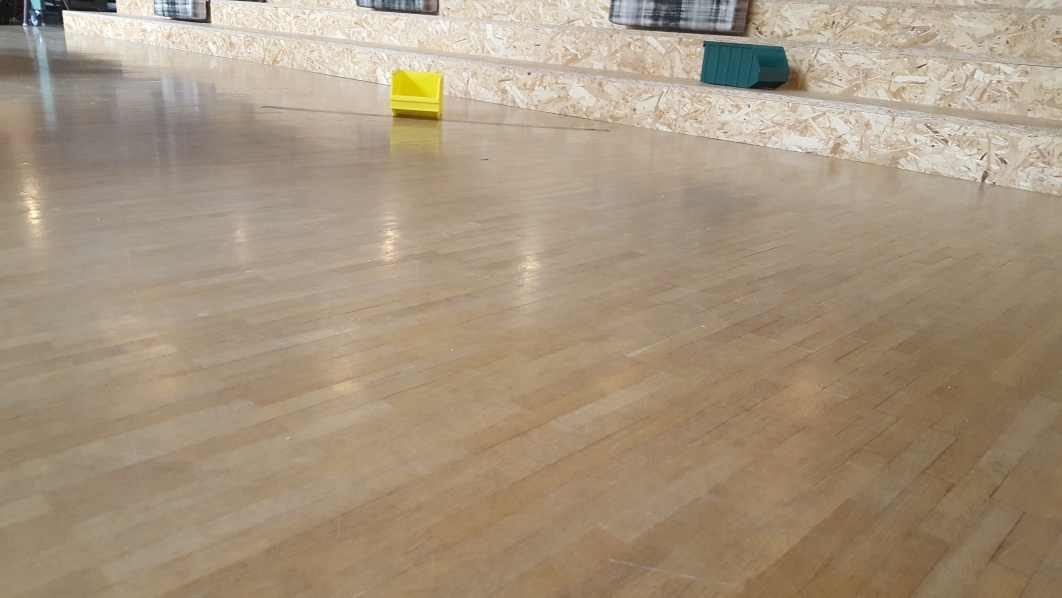tray: (696, 39, 790, 92), (391, 64, 442, 123)
